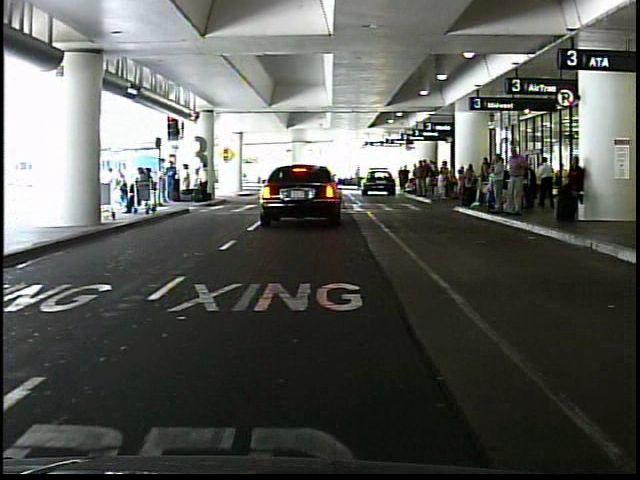person: (502, 140, 531, 222), (557, 151, 587, 227), (534, 153, 557, 212), (487, 152, 506, 214), (108, 159, 128, 216), (166, 155, 181, 203), (196, 158, 211, 200), (181, 161, 194, 201)
